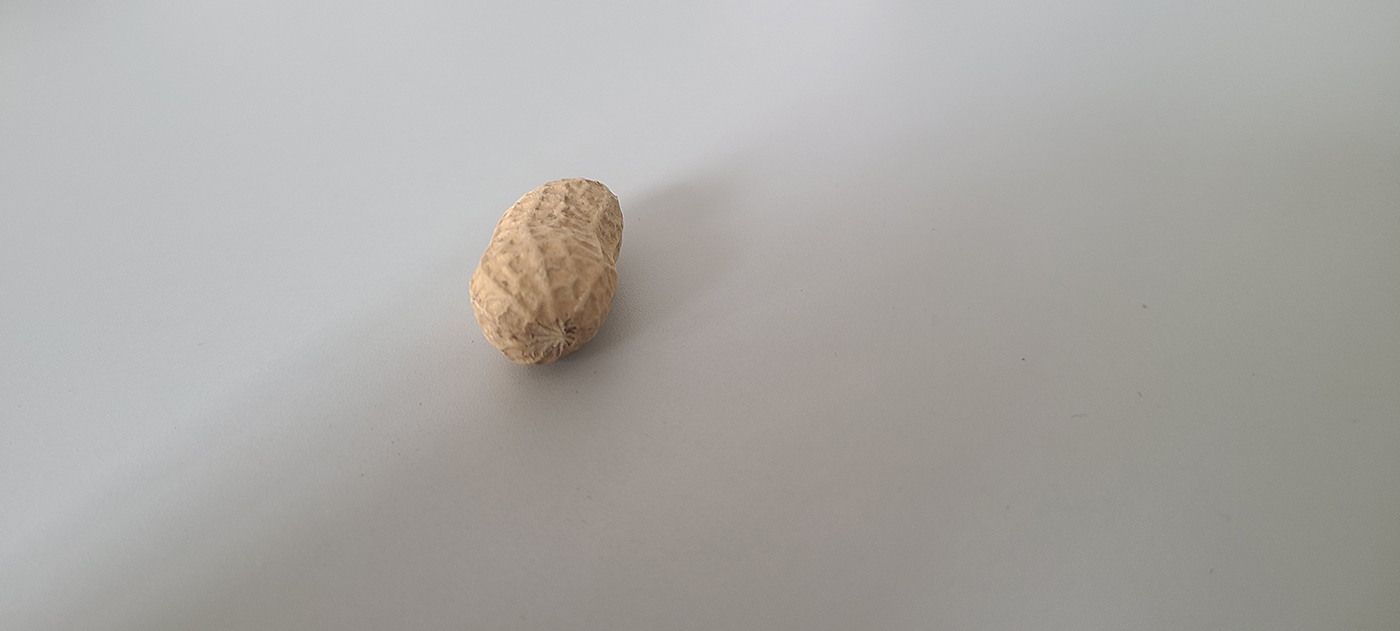h: (464, 172, 626, 365)
